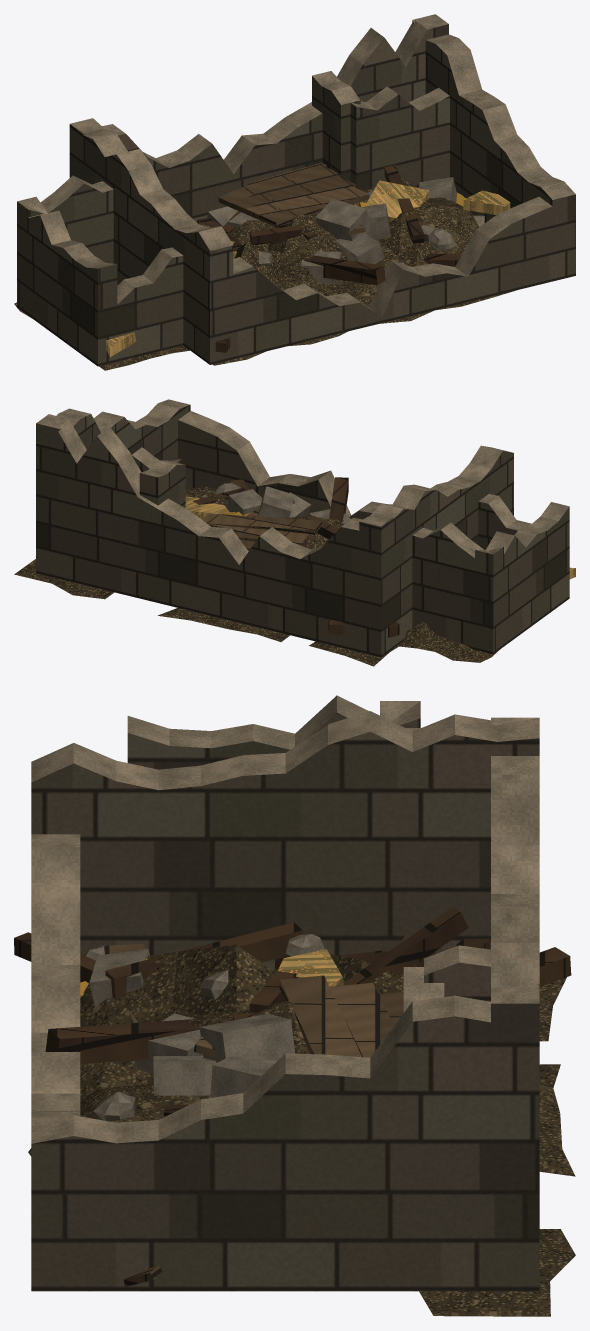
Rendered from AraHut07a.glb.
The picture shows the model from 3 angles, top to bottom: view 1: azimuth 30°, elevation 25°; view 2: azimuth 150°, elevation 25°; view 3: azimuth 270°, elevation 25°; orthographic projection. The views are drawn at different scales.
Parts seen in each view (by area): view 1: AraHut07a_rwall; view 2: AraHut07a_rwall; view 3: AraHut07a_rwall.
Boxes of the visible parts, bbox=[...] form: AraHut07a_rwall: bbox=[14, 14, 575, 370]; AraHut07a_rwall: bbox=[14, 399, 575, 666]; AraHut07a_rwall: bbox=[14, 695, 575, 1316].
Bounding box in the file's own units: 6.06 × 2.07 × 3.46.
Materials: 8 (7 with a texture image).
